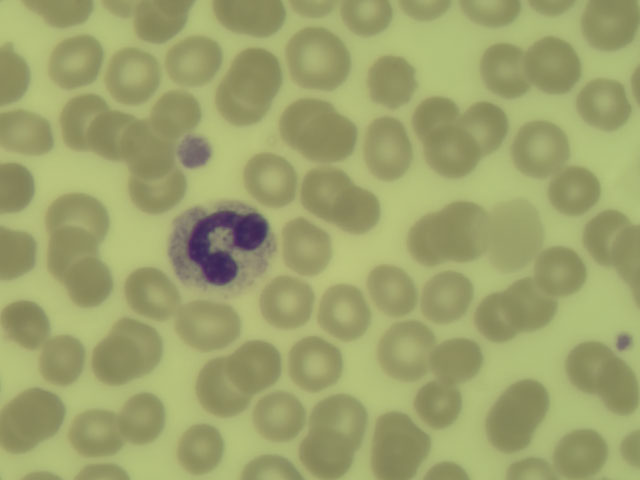Platelets: (178, 136, 211, 170), (618, 331, 635, 353)
RBC: (94, 322, 166, 382), (486, 382, 543, 452), (434, 197, 491, 263), (287, 27, 351, 85), (42, 192, 113, 243), (492, 199, 545, 267), (371, 414, 429, 475), (173, 298, 241, 348), (380, 320, 438, 377), (515, 121, 571, 179), (212, 1, 291, 37), (313, 394, 367, 446), (320, 287, 373, 339), (362, 118, 414, 171), (1, 107, 51, 154), (367, 59, 416, 104), (233, 341, 282, 386), (263, 279, 312, 324), (284, 224, 333, 269), (333, 188, 382, 233), (303, 169, 352, 214), (247, 157, 296, 202), (308, 114, 357, 159), (282, 100, 331, 145), (481, 44, 530, 89), (532, 44, 581, 89), (580, 81, 629, 126), (128, 268, 177, 313), (38, 337, 87, 382), (62, 263, 111, 308), (45, 230, 94, 275), (131, 164, 180, 209), (121, 125, 170, 170), (154, 86, 203, 131), (85, 112, 134, 157), (58, 99, 107, 144), (52, 37, 101, 82), (107, 52, 156, 97), (170, 37, 219, 82), (219, 80, 268, 125), (229, 47, 278, 92), (433, 336, 482, 381), (254, 394, 303, 439), (176, 425, 225, 470), (118, 398, 167, 443), (72, 410, 121, 455), (14, 389, 63, 434), (194, 366, 243, 411), (290, 340, 339, 385), (369, 268, 418, 313), (424, 273, 473, 318), (473, 293, 522, 338), (509, 284, 558, 329), (536, 248, 585, 293), (402, 217, 451, 262), (550, 166, 599, 211), (458, 102, 507, 147), (408, 95, 457, 140), (427, 132, 476, 177), (557, 429, 606, 474), (584, 211, 633, 256), (591, 378, 640, 423), (416, 386, 465, 431), (560, 341, 611, 384), (304, 435, 353, 479), (587, 1, 636, 45), (1, 301, 48, 346), (1, 232, 44, 280), (134, 1, 190, 35), (611, 220, 640, 283), (335, 1, 389, 32), (1, 162, 35, 211), (1, 49, 32, 100), (245, 451, 295, 480), (468, 1, 522, 25), (44, 1, 89, 27), (508, 452, 551, 479), (404, 1, 447, 24)
WBC: (172, 206, 276, 296)
